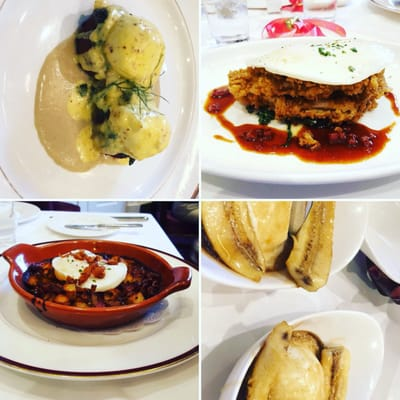pasta: (201, 201, 294, 283)
pizza: (201, 0, 250, 45)
sushi: (26, 0, 198, 181), (1, 238, 193, 329)
